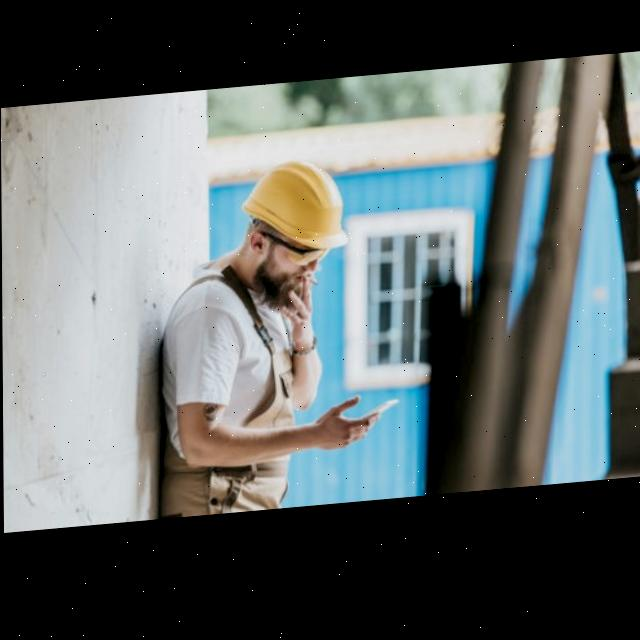cigarette: (309, 280, 318, 290)
